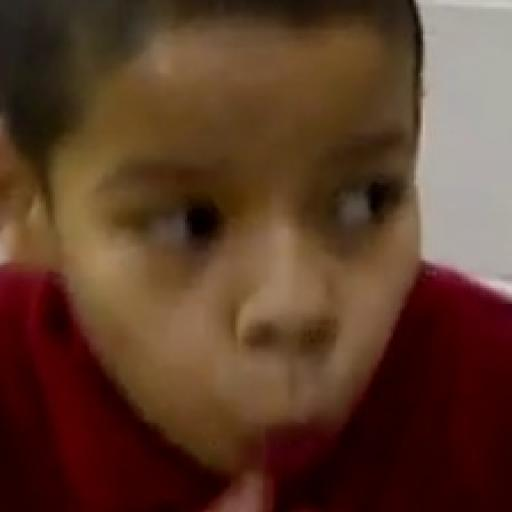Autism: (47, 6, 483, 490)
